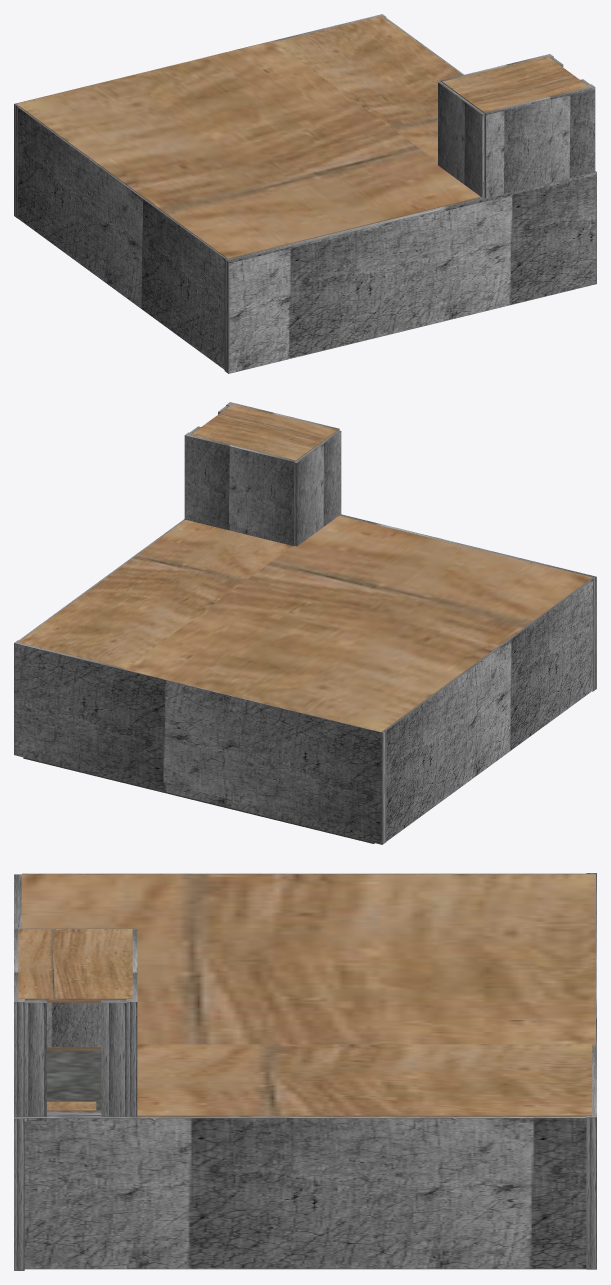
File: Basement_lvl2.fbx
3 renders of one model, top to bottom at view 1: azimuth 30°, elevation 25°; view 2: azimuth 150°, elevation 25°; view 3: azimuth 270°, elevation 25°, orthographic. The views are drawn at different scales.
Parts seen in each view (by area): view 1: Basement; view 2: Basement; view 3: Basement.
Part boxes in pixels (x1,y1,x2,y2): Basement: [14, 14, 596, 373]; Basement: [14, 402, 596, 844]; Basement: [14, 873, 596, 1270].
Bounding box in the file's own units: 27.95 × 14.36 × 28.2.
